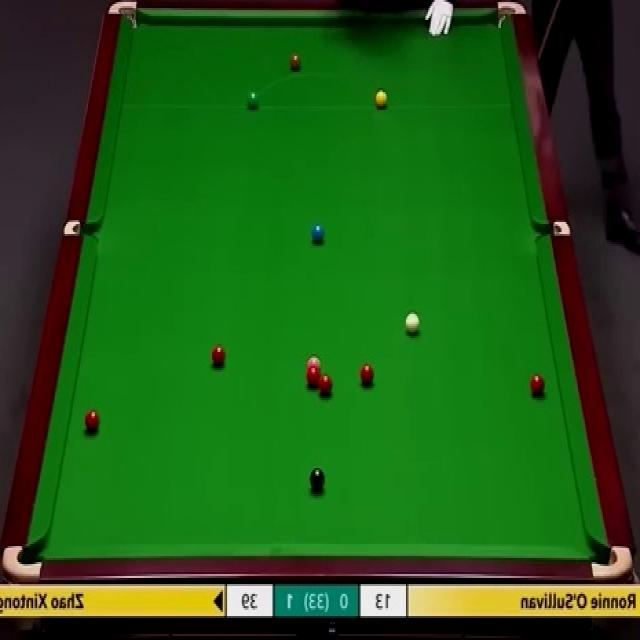black-ball: (308, 466, 325, 491)
blue-ball: (308, 223, 324, 245)
brown-ball: (290, 51, 302, 71)
green-ball: (247, 89, 260, 110)
pink-ball: (310, 354, 324, 372)
red-ball: (359, 362, 375, 388), (530, 372, 546, 398), (84, 408, 100, 434), (211, 343, 225, 369), (318, 375, 332, 397), (306, 370, 322, 387)
white-ball: (405, 310, 420, 336)
yellow-ball: (375, 90, 387, 110)
